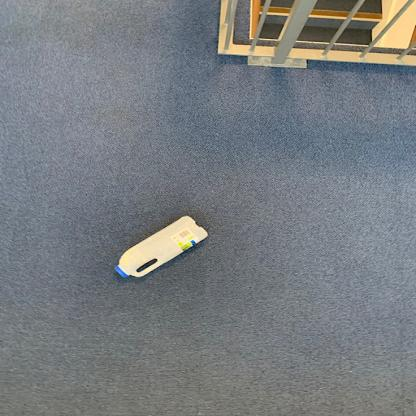trash: (116, 212, 212, 280)
